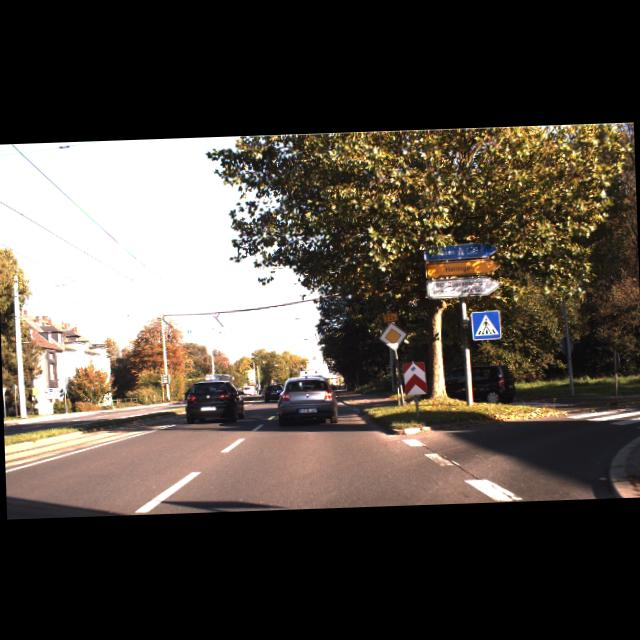other: (378, 320, 408, 350)
